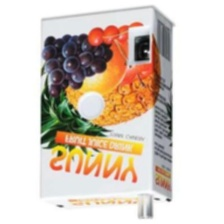carton: (31, 2, 181, 208)
